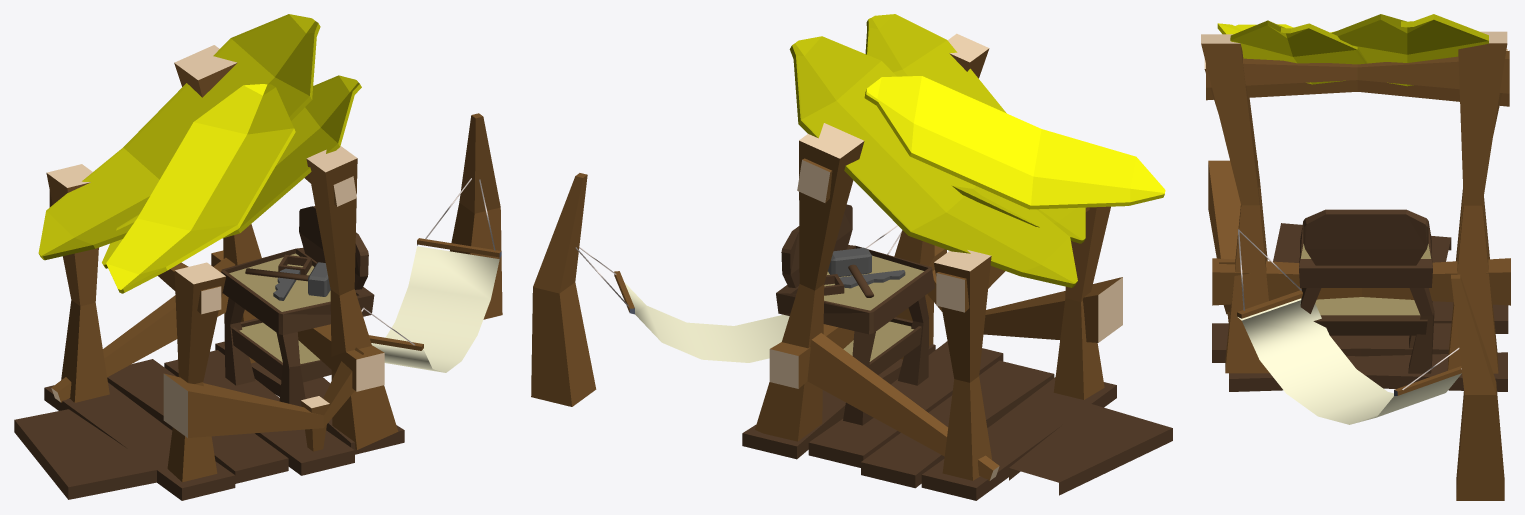
The model's file is Builder_house.fbx.
3 views of the same model, side by side, from view 1: azimuth 30°, elevation 25°; view 2: azimuth 150°, elevation 25°; view 3: azimuth 270°, elevation 25° (orthographic). The views are drawn at different scales.
Parts seen in each view (by area): view 1: Cube; view 2: Cube; view 3: Cube.
Part boxes in pixels (<box>): Cube: <box>14,14,502,500</box>; Cube: <box>531,14,1172,500</box>; Cube: <box>1201,14,1510,500</box>.
Bounding box in the file's own units: 6 × 3 × 4.
